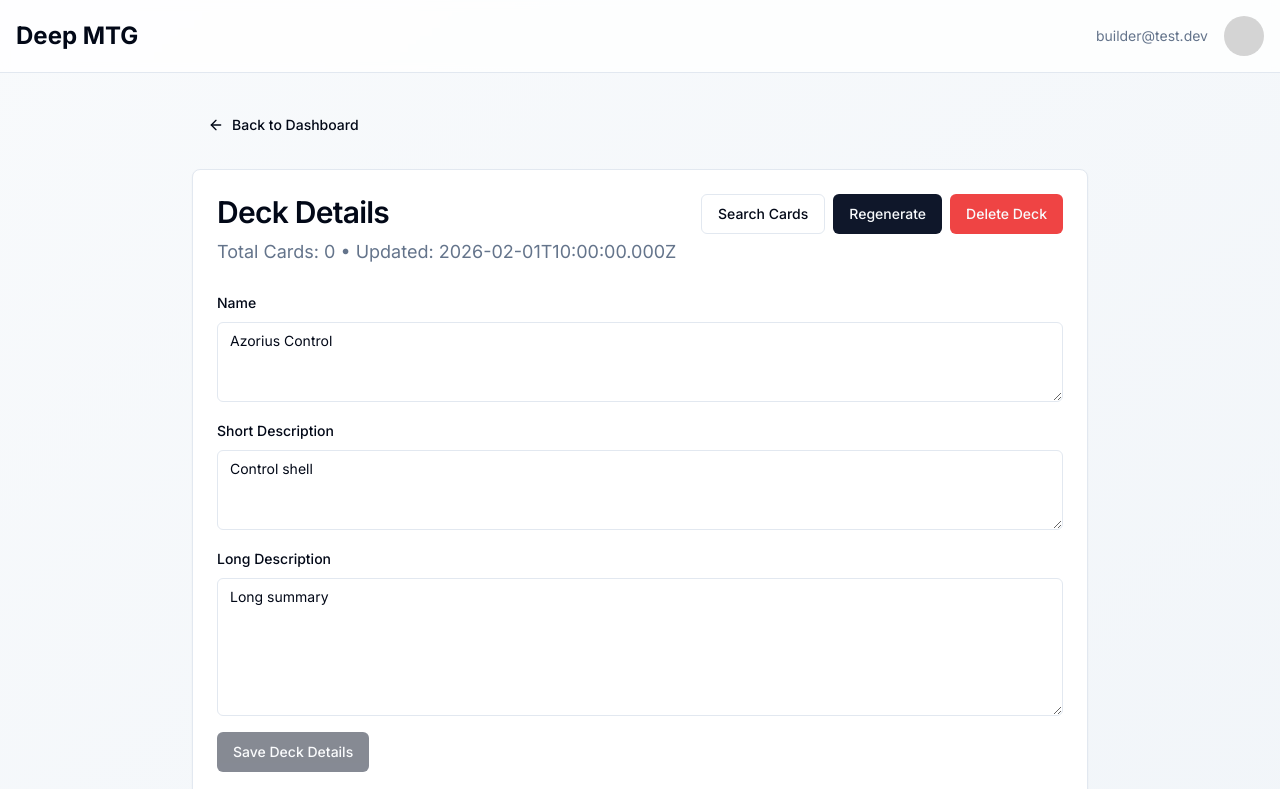
it: DeckPage › shows toast when save is blocked by in-progress generation
The width and height of the screenshot is (1280, 789).
Check: the heading "Deck Details" is shown, box 217,194 -> 389,230
Replace the text in the text box labelled "Name" with "Azorius Control Updated" at (640, 362), box 217,322 -> 1063,402
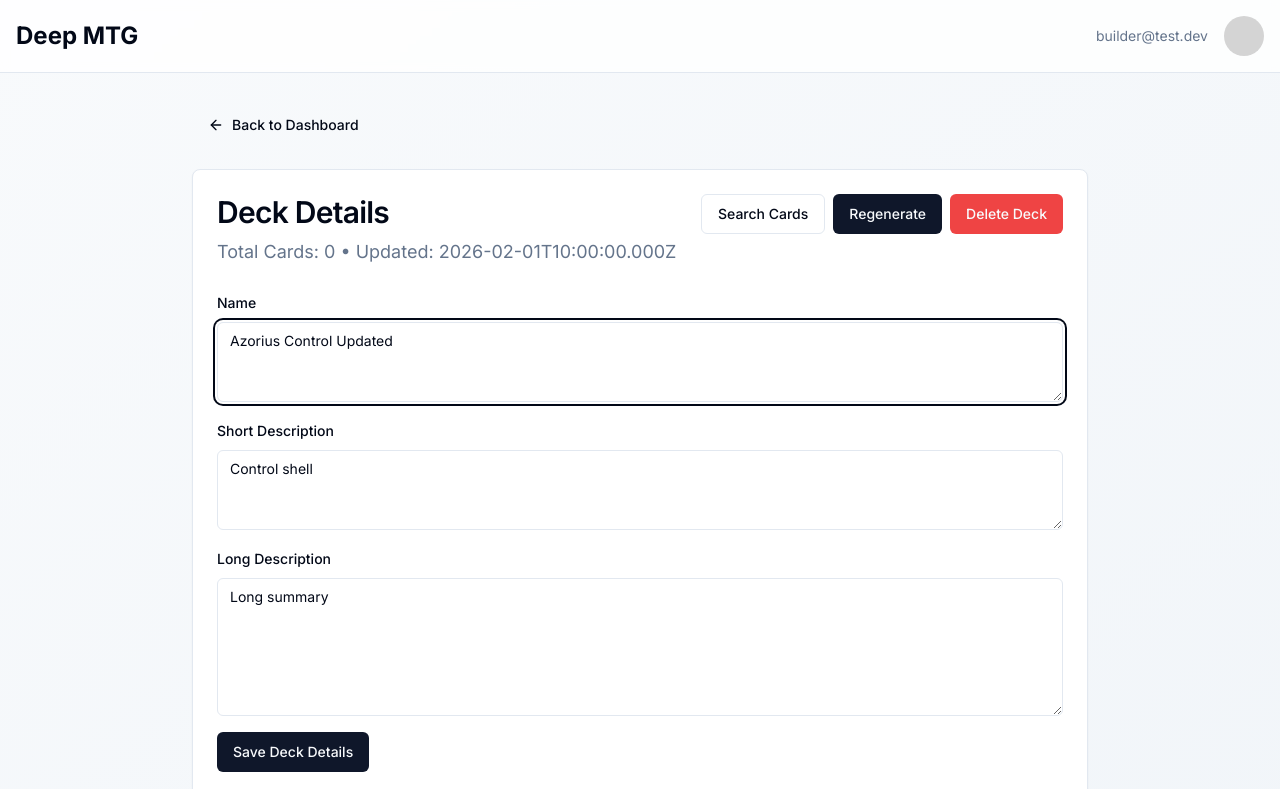
Click the button "Save Deck Details" at (293, 752), box 217,732 -> 369,772
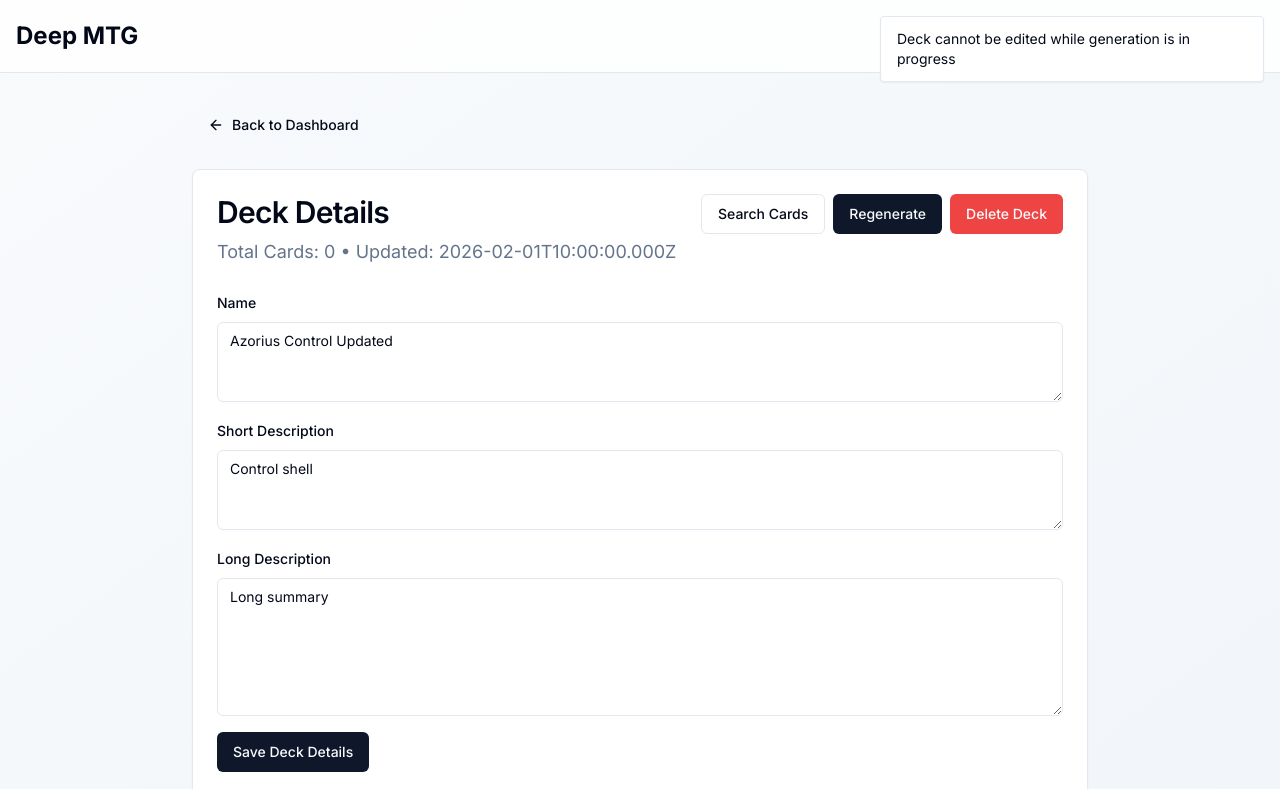
Check: the message reads "Deck cannot be edited while generation is in progress", box 897,30 -> 1190,67
